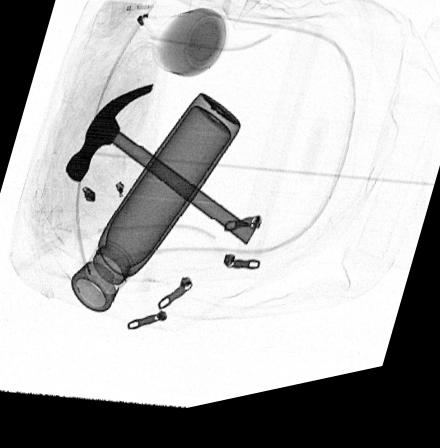Hammer: (64, 90, 255, 257)
